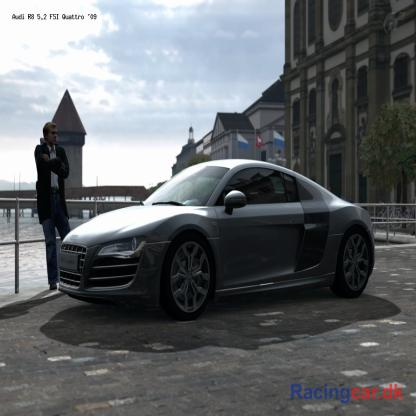Vehicle: (60, 159, 375, 320)
